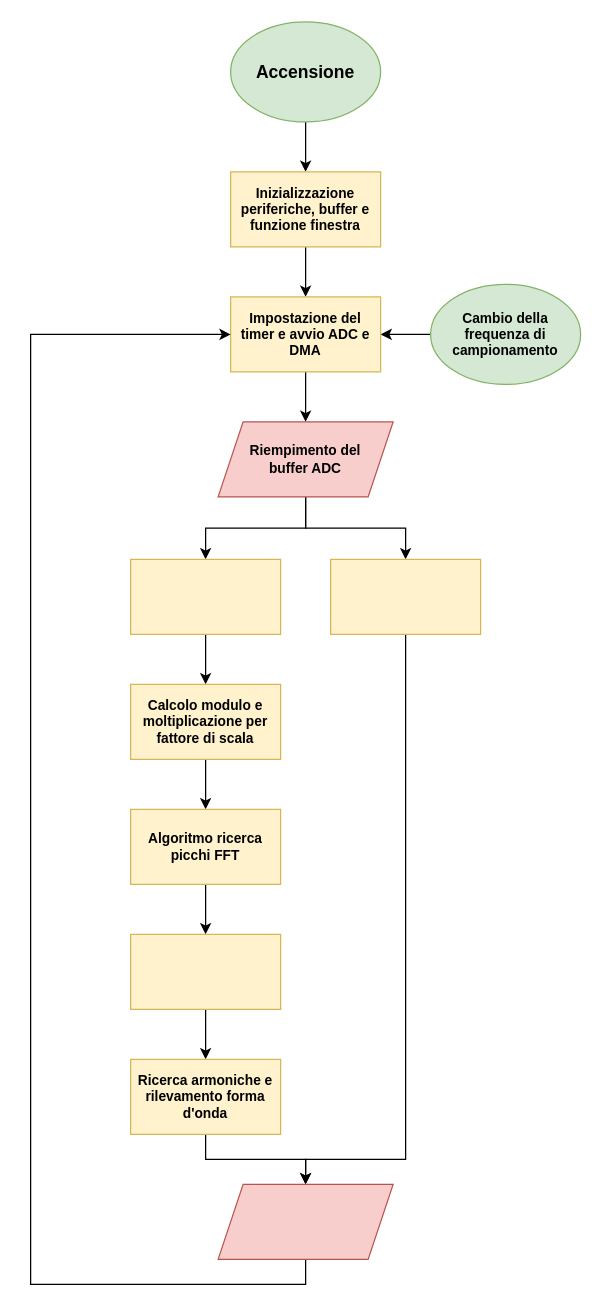
This 603x1316 diagram has some shape labels left out. Each missing label, with the centre of its shape:
"Aggiunta dei dati nel buffer di input e calcolo FFT" goes at pixel 205 596.
"Calcolo frequenza fondamentale" goes at pixel 205 971.
"Calcolo min, max, media, RMS" goes at pixel 405 596.
"Invio dei dati al PC" goes at pixel 305 1221.
